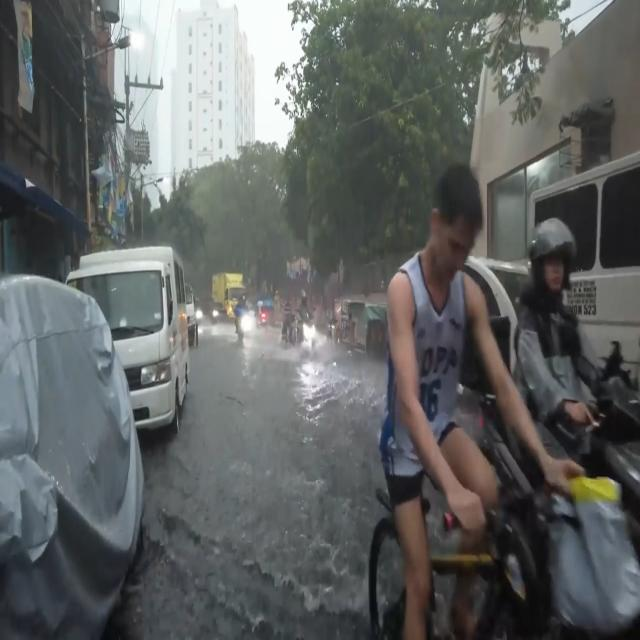half: (529, 215, 577, 303)
